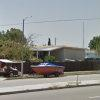Boat: (26, 59, 71, 84)
